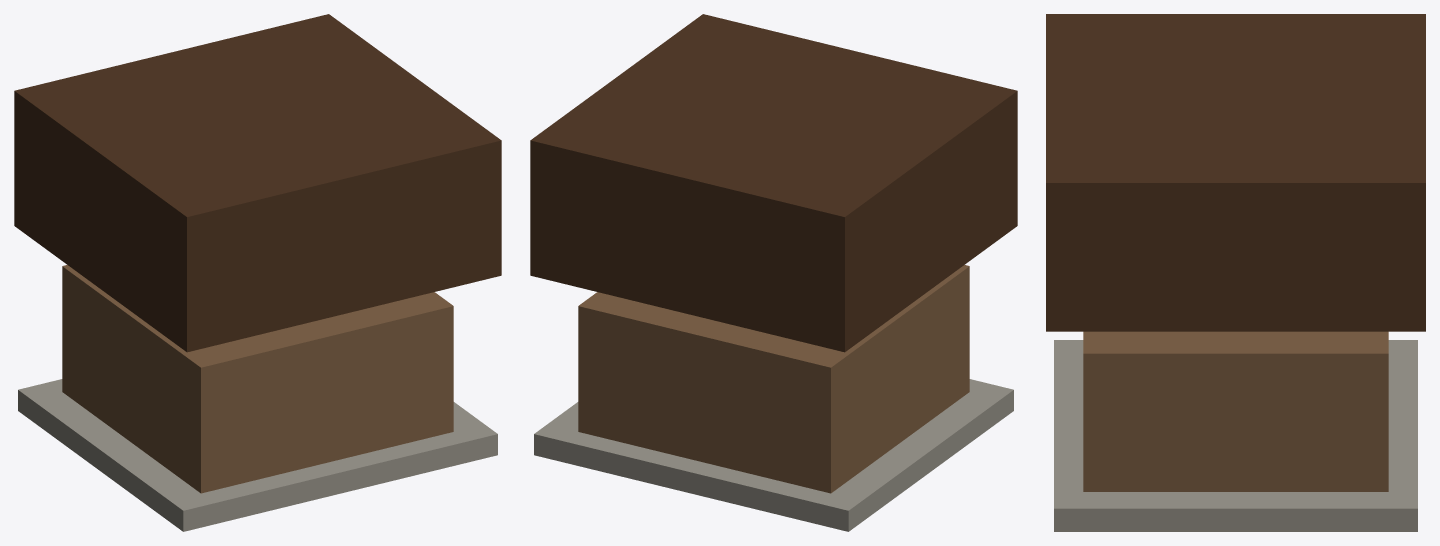
The model's file is bld_residential_a01_lod2.glb.
3 renders of one model, left to right at view 1: azimuth 30°, elevation 25°; view 2: azimuth 150°, elevation 25°; view 3: azimuth 270°, elevation 25°, orthographic. The views are drawn at different scales.
Parts seen in each view (by area): view 1: body; view 2: body; view 3: body.
Part boxes in pixels (left/top/right/bottom): body: left=14, top=14, right=501, bottom=531; body: left=530, top=14, right=1017, bottom=531; body: left=1046, top=14, right=1425, bottom=531.
Bounding box in the file's own units: 5.6 × 5.4 × 5.33.
